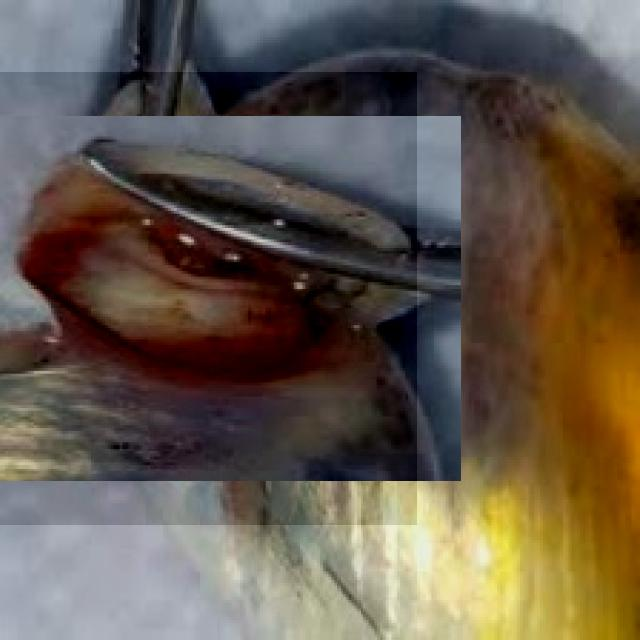Gill Disease: (0, 72, 417, 525)
